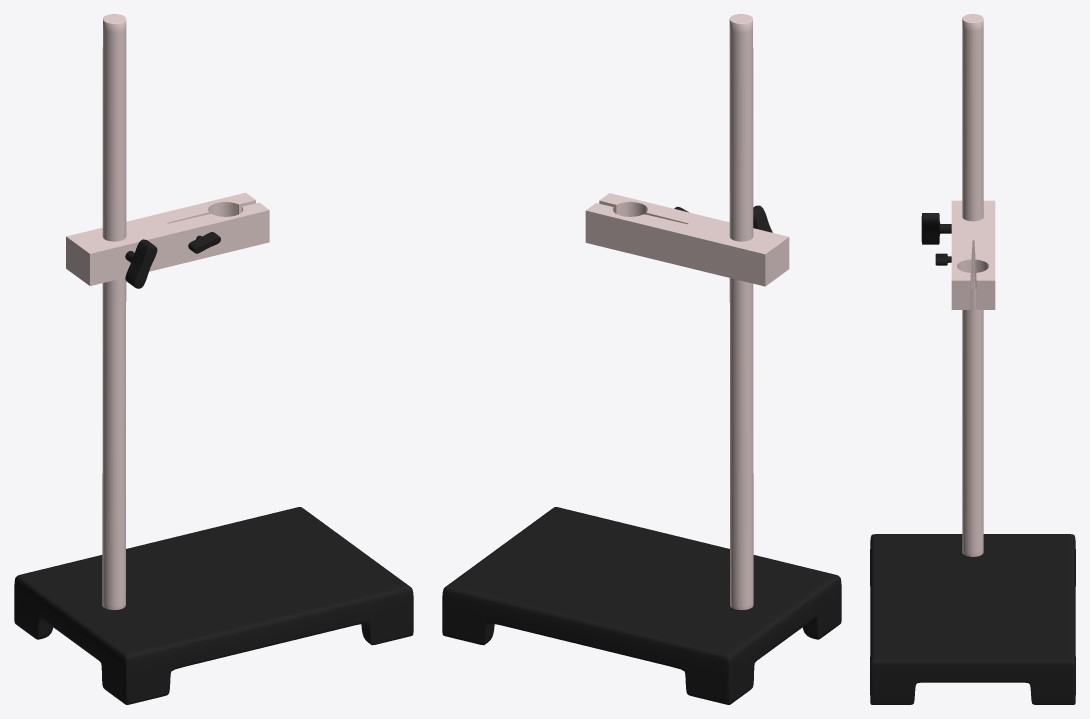
Rendered from burette_stand.glb.
3 views of the same model, side by side, from view 1: azimuth 30°, elevation 25°; view 2: azimuth 150°, elevation 25°; view 3: azimuth 270°, elevation 25° (orthographic). The views are drawn at different scales.
Parts seen in each view (by area): view 1: polySurface2, polySurface1, pCube4, polySurface5; view 2: polySurface2, polySurface1, pCube4; view 3: polySurface2, polySurface1, pCube4, polySurface5.
Part boxes in pixels (<box>): polySurface2: <box>14,507,413,704</box>; polySurface1: <box>102,14,126,609</box>; pCube4: <box>66,192,269,285</box>; polySurface5: <box>125,239,157,288</box>; polySurface2: <box>442,507,841,704</box>; polySurface1: <box>729,14,753,609</box>; pCube4: <box>585,193,789,286</box>; polySurface2: <box>870,534,1075,704</box>; polySurface1: <box>962,14,983,556</box>; pCube4: <box>951,200,995,309</box>; polySurface5: <box>921,213,951,244</box>.
Size of the model in its own units: 0.2491 by 0.5244 by 0.1689.
